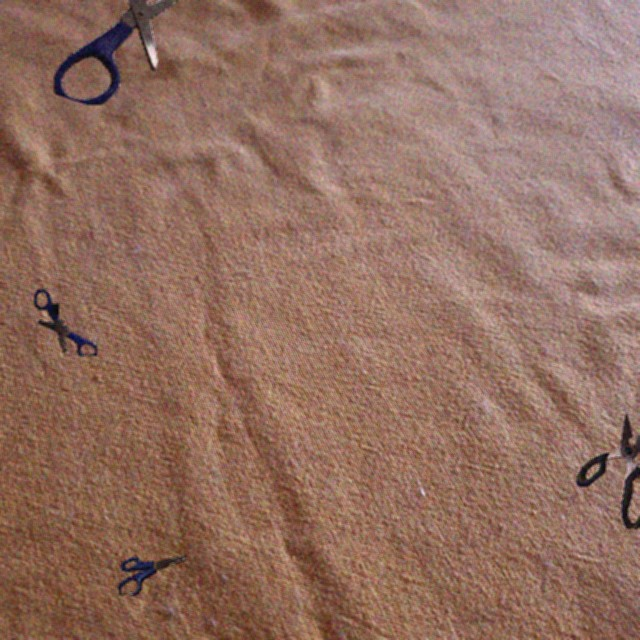scissors: (54, 0, 178, 105), (577, 413, 640, 529), (34, 288, 97, 356), (118, 554, 186, 595)
